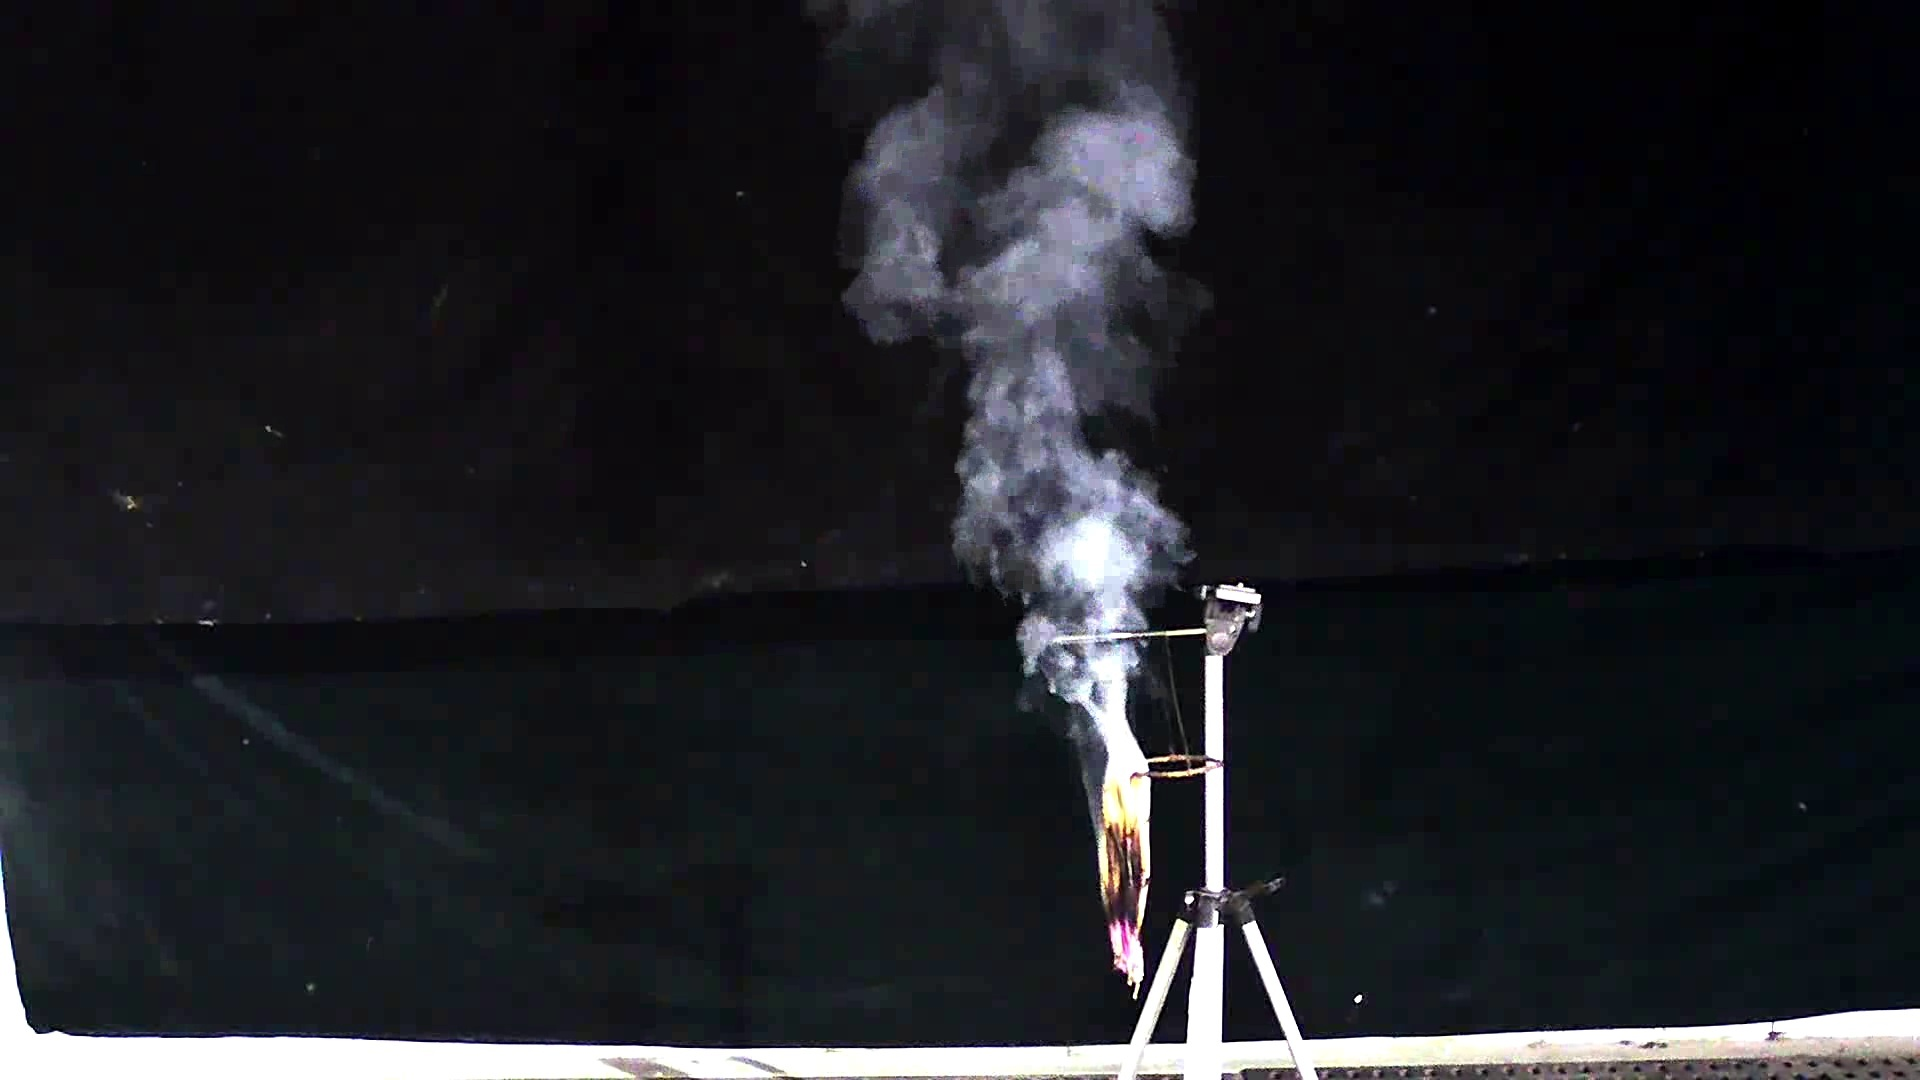smoke: (862, 74, 1179, 707)
